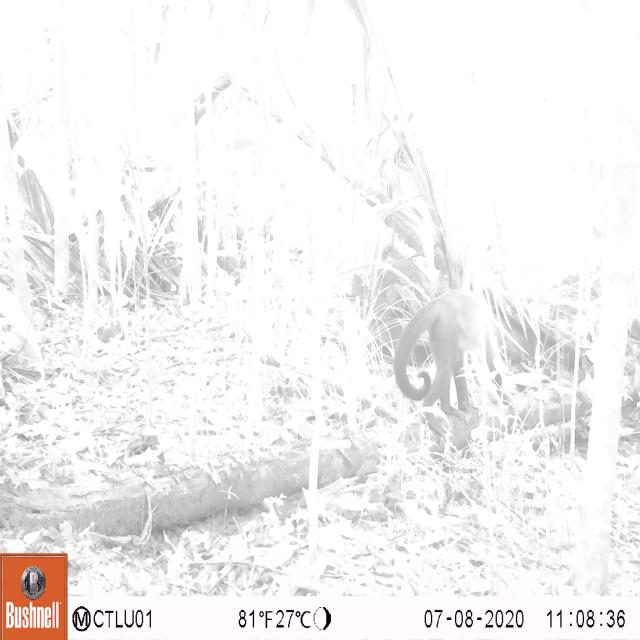Margarita Island Capuchin: (392, 278, 524, 423)
